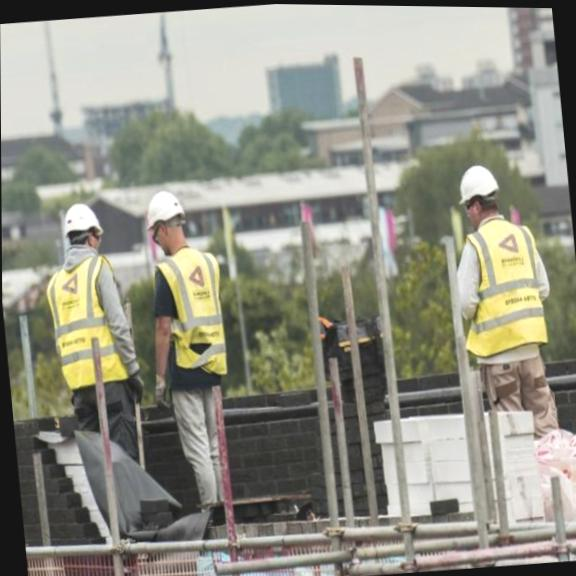safety_vest: (448, 210, 552, 372), (46, 249, 145, 414), (151, 245, 237, 401)
